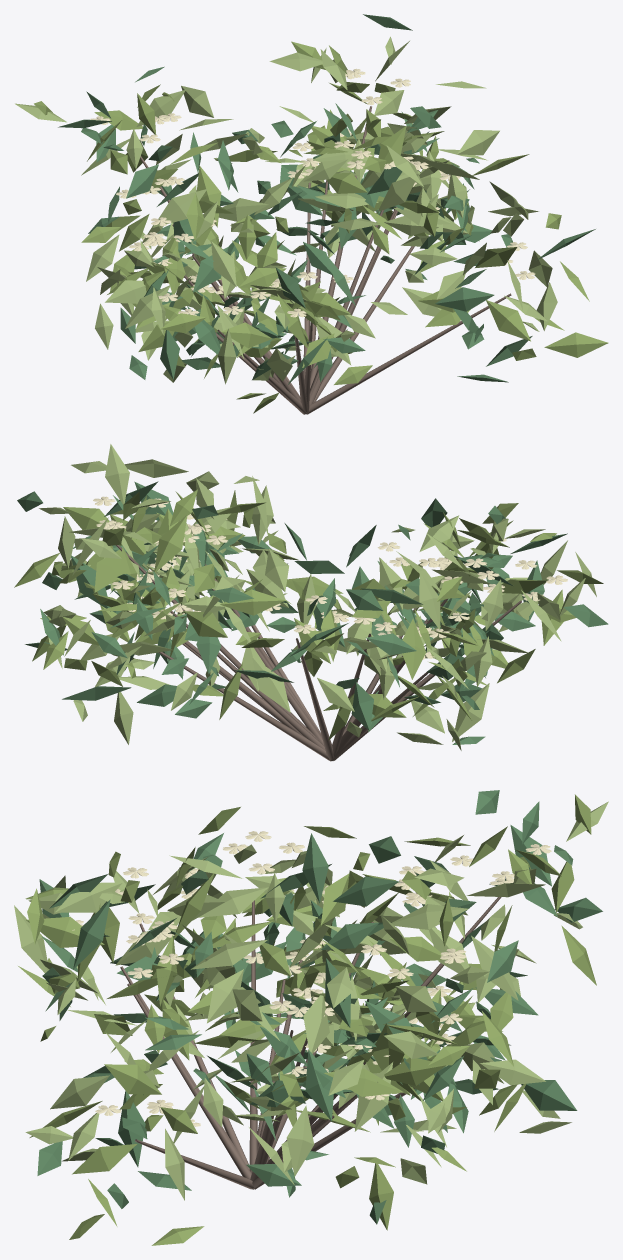
The model's file is sakura_shrub_2.glb.
The picture shows the model from 3 angles, top to bottom: view 1: azimuth 30°, elevation 25°; view 2: azimuth 150°, elevation 25°; view 3: azimuth 270°, elevation 25°; orthographic projection. The views are drawn at different scales.
Visible parts, largest first — view 1: sakura_shrub_2_SakuraLeafSage, sakura_shrub_2_SakuraLeafOlive, sakura_shrub_2_SakuraLeafDark, sakura_shrub_2_SakuraBark, sakura_shrub_2_SakuraFlowerCream; view 2: sakura_shrub_2_SakuraLeafSage, sakura_shrub_2_SakuraLeafOlive, sakura_shrub_2_SakuraLeafDark, sakura_shrub_2_SakuraBark, sakura_shrub_2_SakuraFlowerCream; view 3: sakura_shrub_2_SakuraLeafSage, sakura_shrub_2_SakuraLeafOlive, sakura_shrub_2_SakuraLeafDark, sakura_shrub_2_SakuraFlowerCream, sakura_shrub_2_SakuraBark.
Part boxes in pixels (<box>): sakura_shrub_2_SakuraLeafSage: <box>15,36,557,384</box>; sakura_shrub_2_SakuraLeafOlive: <box>34,41,608,413</box>; sakura_shrub_2_SakuraLeafDark: <box>58,14,595,384</box>; sakura_shrub_2_SakuraBark: <box>140,106,511,414</box>; sakura_shrub_2_SakuraFlowerCream: <box>90,68,535,317</box>; sakura_shrub_2_SakuraLeafSage: <box>39,444,596,750</box>; sakura_shrub_2_SakuraLeafOlive: <box>14,489,603,740</box>; sakura_shrub_2_SakuraLeafDark: <box>17,481,608,744</box>; sakura_shrub_2_SakuraBark: <box>116,545,521,761</box>; sakura_shrub_2_SakuraFlowerCream: <box>93,496,567,659</box>; sakura_shrub_2_SakuraLeafSage: <box>14,801,608,1200</box>; sakura_shrub_2_SakuraLeafOlive: <box>18,794,596,1245</box>; sakura_shrub_2_SakuraLeafDark: <box>37,790,602,1224</box>; sakura_shrub_2_SakuraFlowerCream: <box>72,831,551,1126</box>; sakura_shrub_2_SakuraBark: <box>120,897,501,1189</box>.
Bounding box in the file's own units: 1.79 × 1.14 × 1.67.
